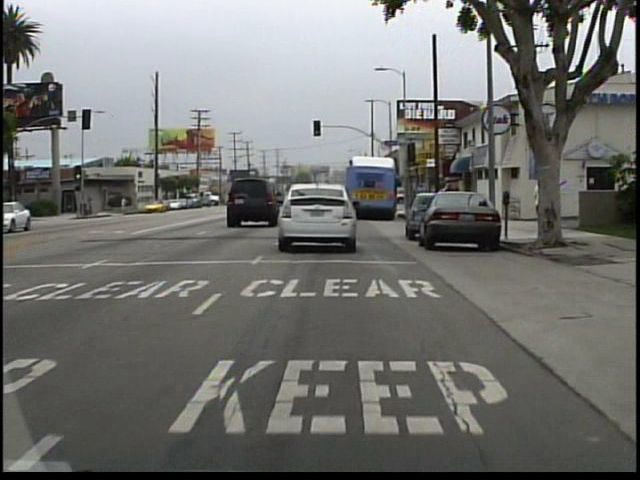person: (529, 174, 548, 230), (540, 177, 557, 233), (413, 180, 432, 220), (120, 195, 131, 214)
